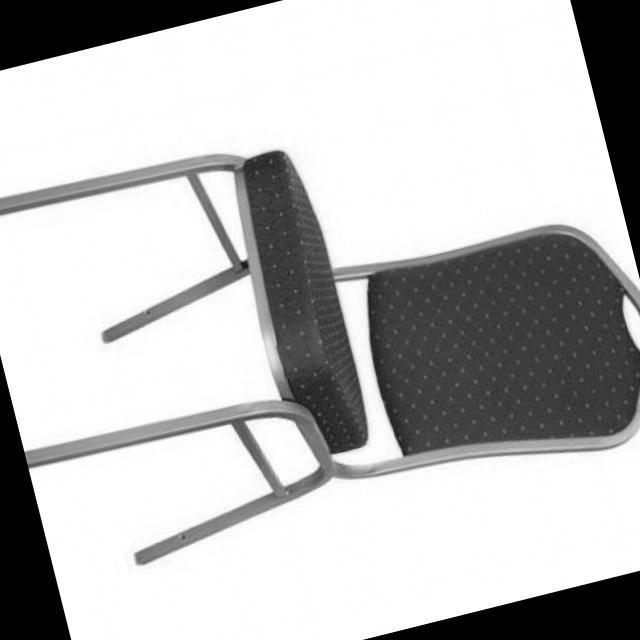chair: (0, 45, 640, 592)
